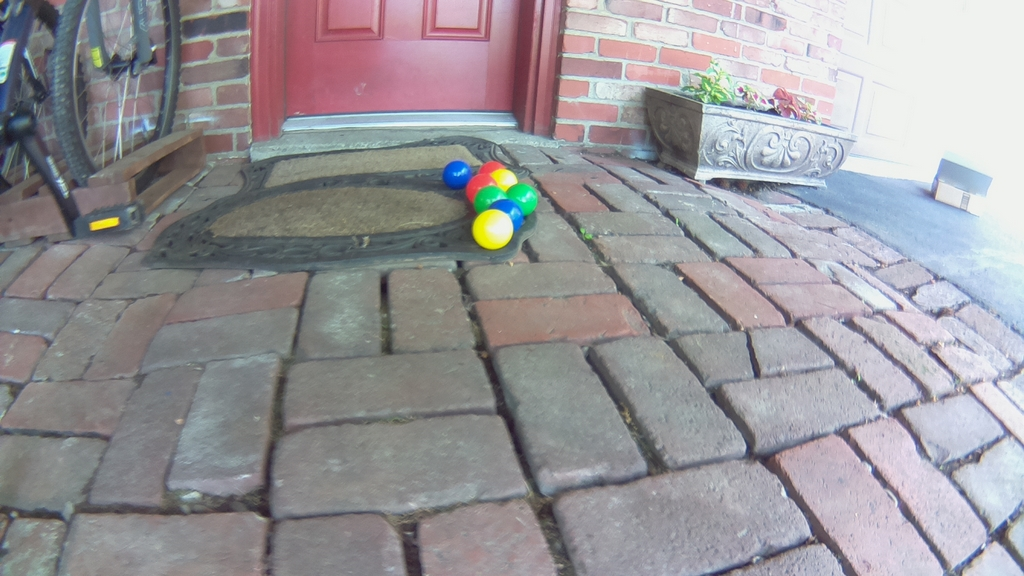ball: (510, 183, 536, 216)
